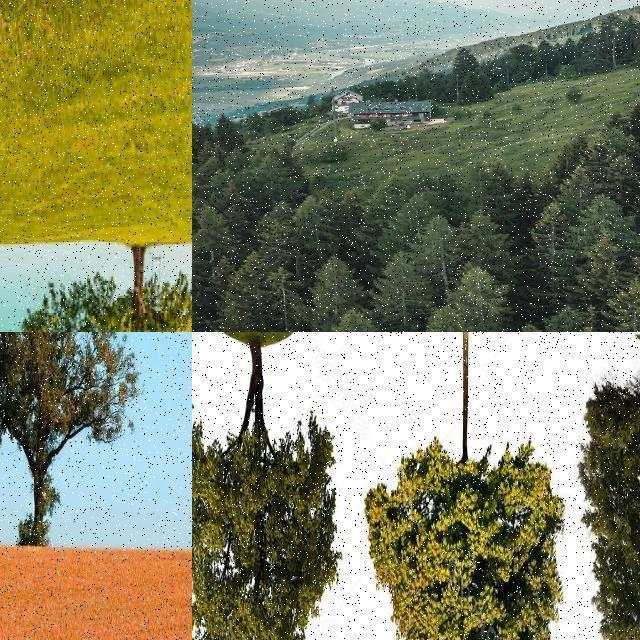tree: (364, 332, 564, 640), (192, 338, 352, 640), (0, 332, 146, 548), (578, 347, 640, 640), (24, 255, 192, 332), (547, 195, 640, 275), (416, 268, 508, 332), (412, 217, 468, 307), (374, 252, 426, 332), (287, 192, 345, 260), (384, 199, 456, 253), (354, 174, 408, 246), (307, 256, 369, 318), (192, 205, 240, 277), (449, 162, 511, 215), (456, 208, 512, 262), (240, 153, 302, 199), (256, 268, 304, 316), (262, 316, 394, 332), (604, 274, 640, 332), (199, 167, 245, 210), (256, 220, 296, 268), (598, 12, 630, 68), (603, 154, 640, 194), (558, 162, 598, 198), (576, 136, 620, 166), (457, 70, 495, 104), (212, 113, 244, 147), (536, 40, 556, 78), (454, 48, 478, 72), (626, 102, 640, 142), (507, 44, 538, 60), (628, 28, 640, 64), (563, 37, 575, 47)
